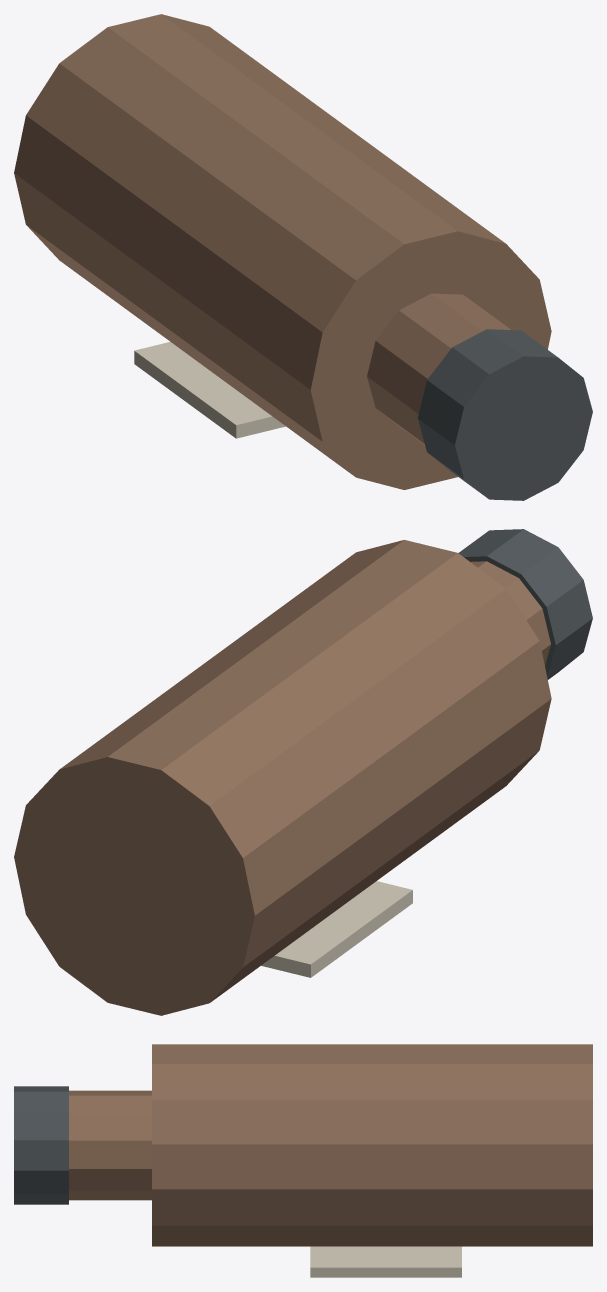
The model's file is sweet_tea.glb.
The picture shows the model from 3 angles, top to bottom: view 1: azimuth 30°, elevation 25°; view 2: azimuth 150°, elevation 25°; view 3: azimuth 270°, elevation 25°; orthographic projection. The views are drawn at different scales.
Visible parts, largest first — view 1: 00_tea_bottle, 02_cap, 01_neck, 03_label; view 2: 00_tea_bottle, 02_cap, 03_label, 01_neck; view 3: 00_tea_bottle, 01_neck, 02_cap, 03_label.
Part boxes in pixels (x1,y1,x2,y2): 00_tea_bottle: (14,14,551,489); 02_cap: (417,329,592,500); 01_neck: (367,293,510,445); 03_label: (134,341,285,438); 00_tea_bottle: (14,540,551,1015); 02_cap: (458,529,592,679); 03_label: (261,881,412,977); 01_neck: (470,561,550,665); 00_tea_bottle: (152,1044,592,1246); 01_neck: (69,1090,151,1200); 02_cap: (14,1086,68,1204); 03_label: (310,1246,461,1277).
Size of the model in its own units: 0.15 by 0.1581 by 0.42.
